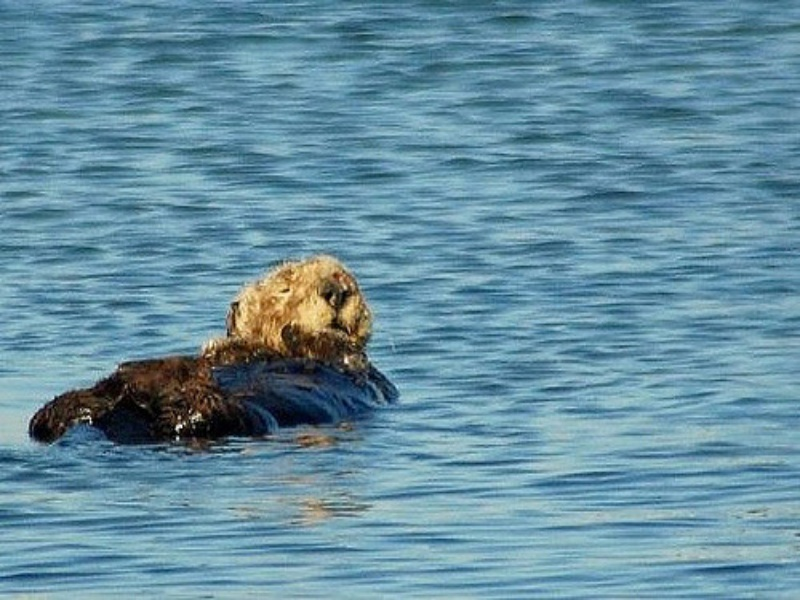minkish: (16, 244, 409, 487)
